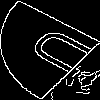U: (25, 24, 100, 82)
